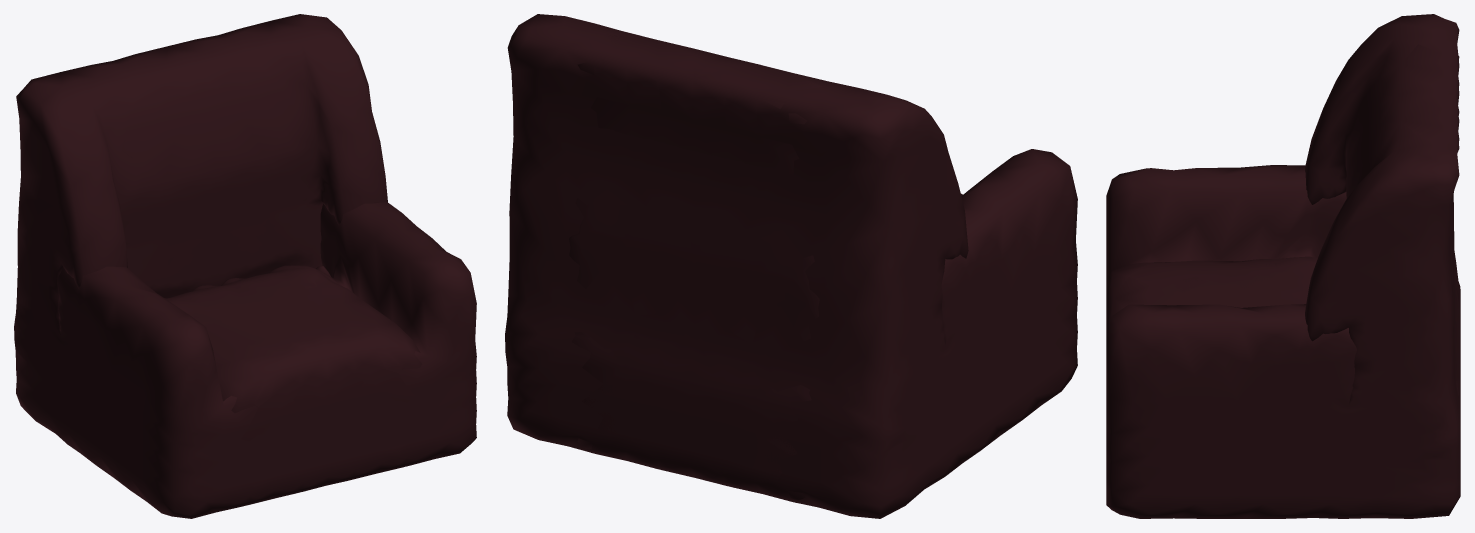
The model's file is couchmaroon.obj.
3 views of the same model, side by side, from view 1: azimuth 30°, elevation 25°; view 2: azimuth 150°, elevation 25°; view 3: azimuth 270°, elevation 25° (orthographic). The views are drawn at different scales.
Parts seen in each view (by area): view 1: Cube; view 2: Cube; view 3: Cube.
Part boxes in pixels (x1=…): Cube: x1=14, y1=14, x2=476, y2=518; Cube: x1=505, y1=14, x2=1077, y2=518; Cube: x1=1106, y1=14, x2=1460, y2=518.
Bounding box in the file's own units: 5.1 × 5.14 × 4.69.
